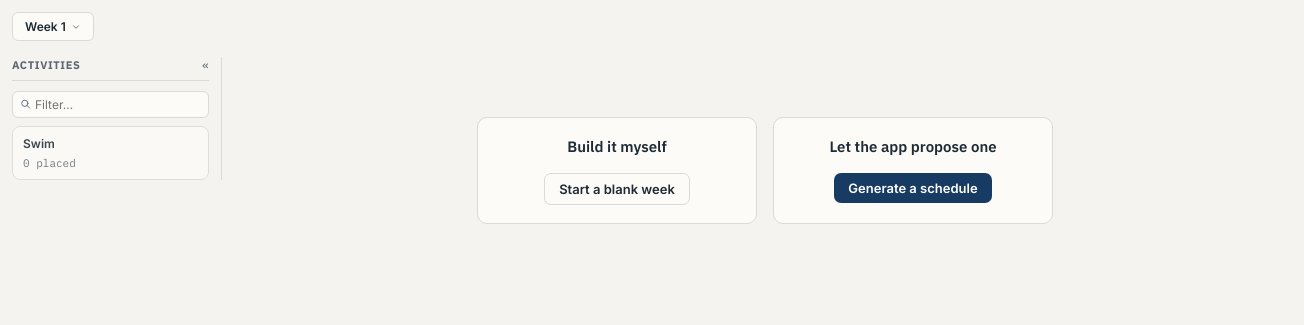
Test: flags round-trips through bulk_replace as a parsed object (Round 2 Fix 1) › generate(): after bulkReplace, the refetched template_slots rows have flags parsed back into an object, not left as a JSON string
Click the button "Generate a schedule" at (913, 188), box [834,172,992,202]
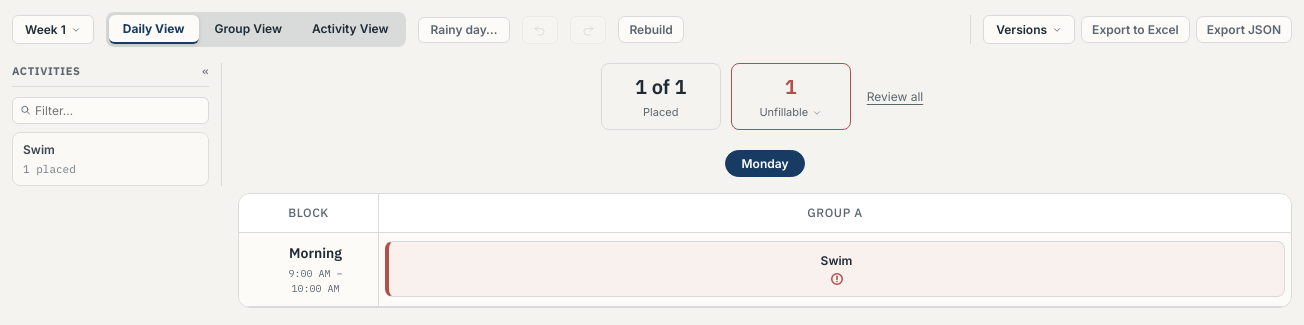
Result: the text "Unfillable" is shown at [759,105,822,119]
